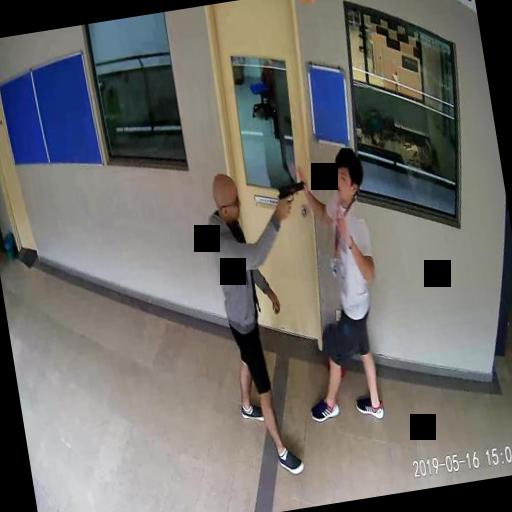Handgun: (275, 179, 306, 213)
